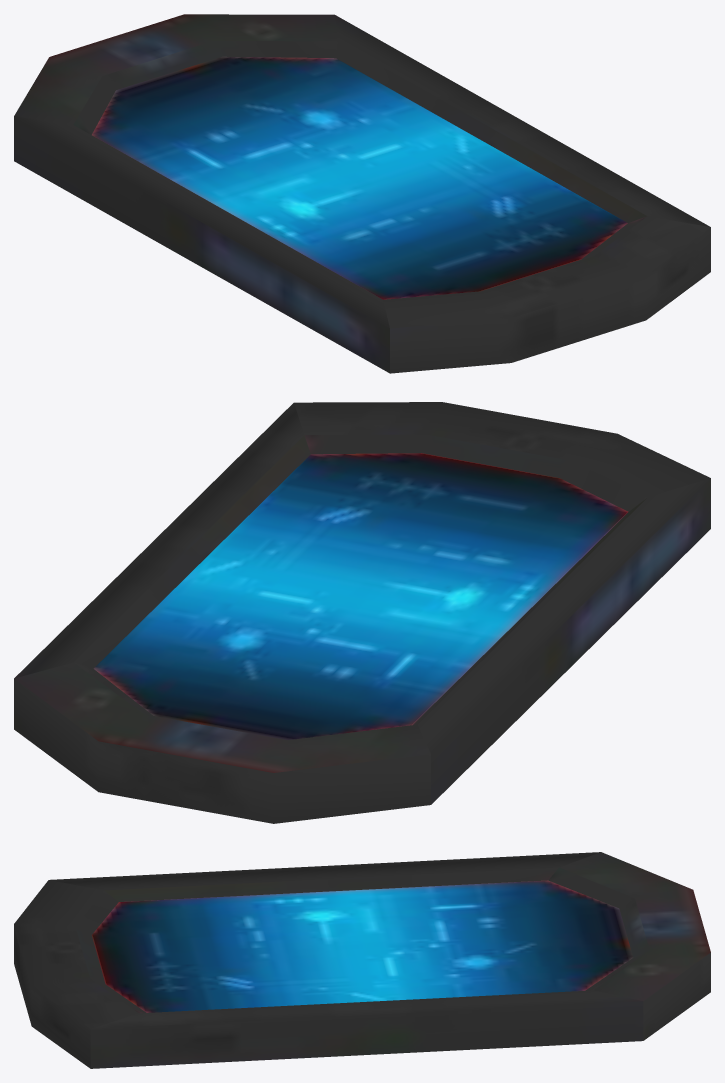
Rendered from smartphone.glb.
The picture shows the model from 3 angles, top to bottom: view 1: azimuth 30°, elevation 25°; view 2: azimuth 150°, elevation 25°; view 3: azimuth 270°, elevation 25°; orthographic projection. The views are drawn at different scales.
Visible parts, largest first — view 1: Tablette3_Objet2_0; view 2: Tablette3_Objet2_0; view 3: Tablette3_Objet2_0.
Boxes of the visible parts, x1,y1,x2,y2 form: Tablette3_Objet2_0: [14, 14, 710, 373]; Tablette3_Objet2_0: [14, 402, 710, 823]; Tablette3_Objet2_0: [14, 852, 710, 1068].
Size of the model in its own units: 0.1016 by 0.0107 by 0.1691.
1 material, 1 textured.
